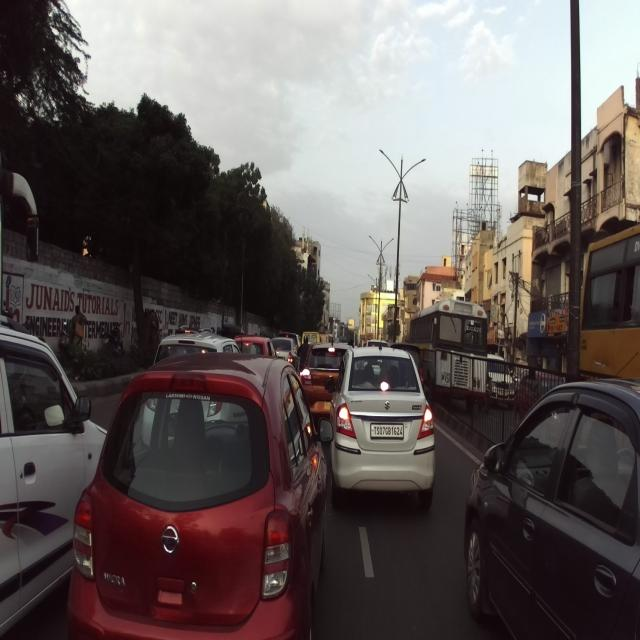Car_Maruti-Suzuki: (322, 337, 435, 509), (296, 341, 348, 432)
Car_Nissan: (65, 357, 332, 639)
Car_Toyota: (463, 380, 639, 639)
bus: (401, 297, 489, 403)
